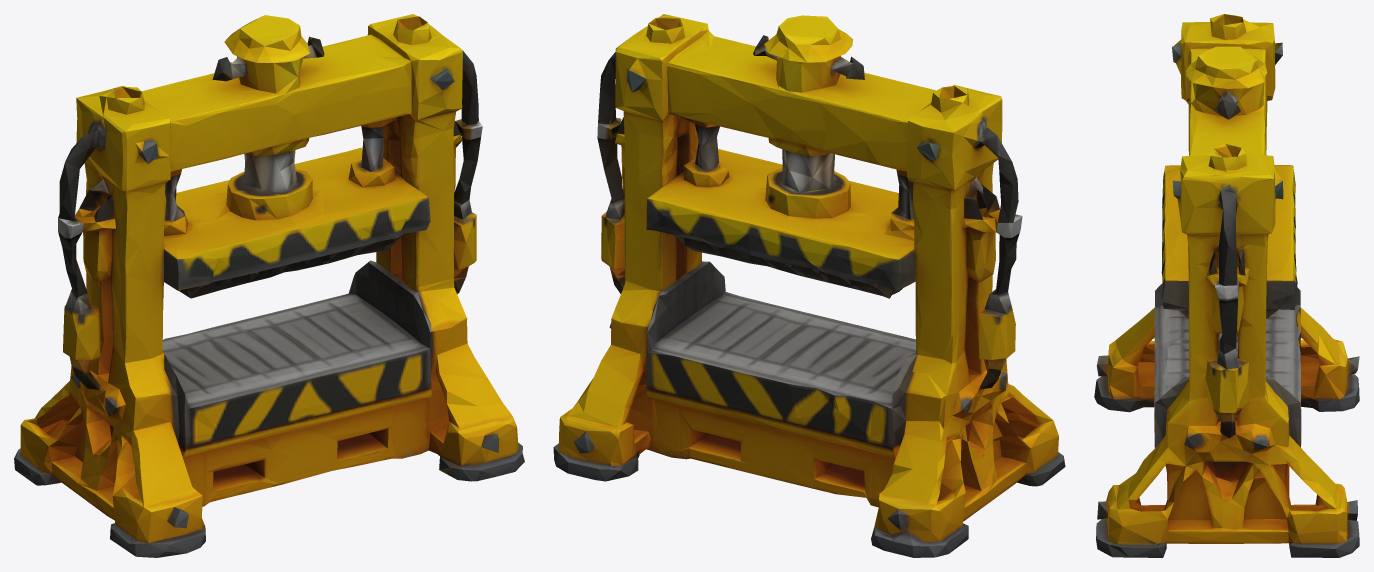
File: car_crusher.glb
3 views of the same model, side by side, from view 1: azimuth 30°, elevation 25°; view 2: azimuth 150°, elevation 25°; view 3: azimuth 270°, elevation 25° (orthographic). The views are drawn at different scales.
Parts seen in each view (by area): view 1: geometry_0; view 2: geometry_0; view 3: geometry_0.
Boxes of the visible parts, x1,y1,x2,y2 form: geometry_0: (14, 14, 524, 557); geometry_0: (553, 14, 1065, 557); geometry_0: (1094, 14, 1359, 557).
Size of the model in its own units: 1 by 1 by 0.5852.
1 material, 1 textured.
